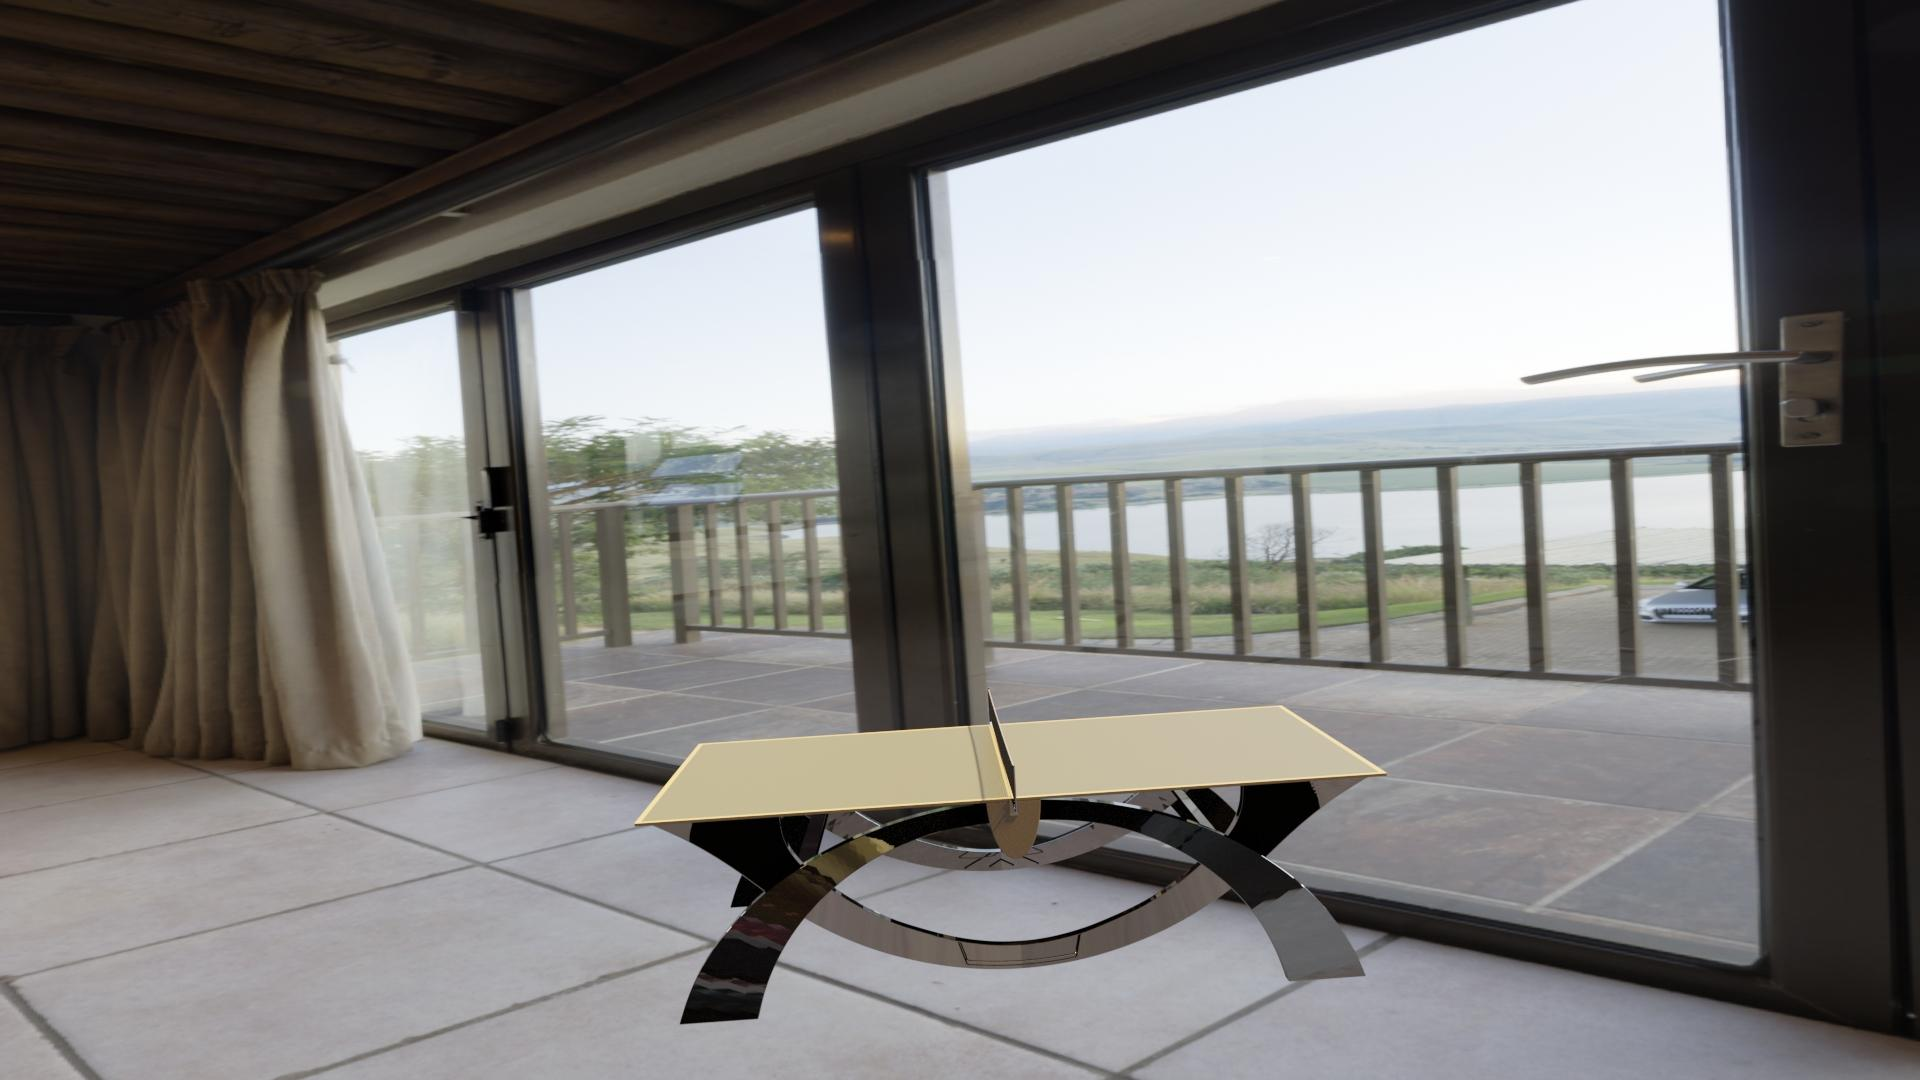table: (641, 707, 1379, 822)
